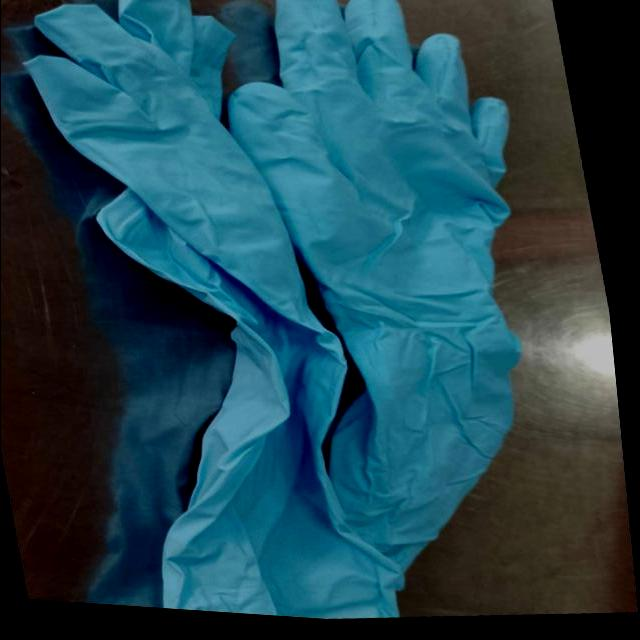General: (22, 3, 523, 619)
